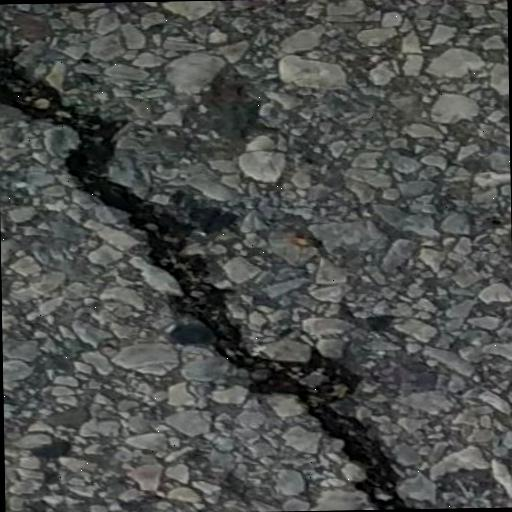spalling: (0, 37, 420, 508)
